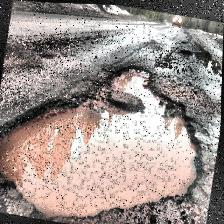pothole: (0, 41, 218, 224)
